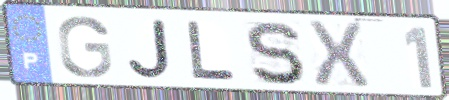1: (403, 24, 434, 90)
G: (55, 14, 114, 80)
J: (125, 17, 174, 81)
L: (184, 19, 239, 81)
S: (242, 19, 308, 87)
X: (304, 19, 372, 90)
